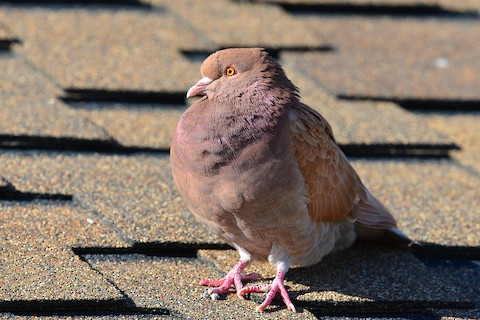pigeon: (167, 43, 404, 313)
